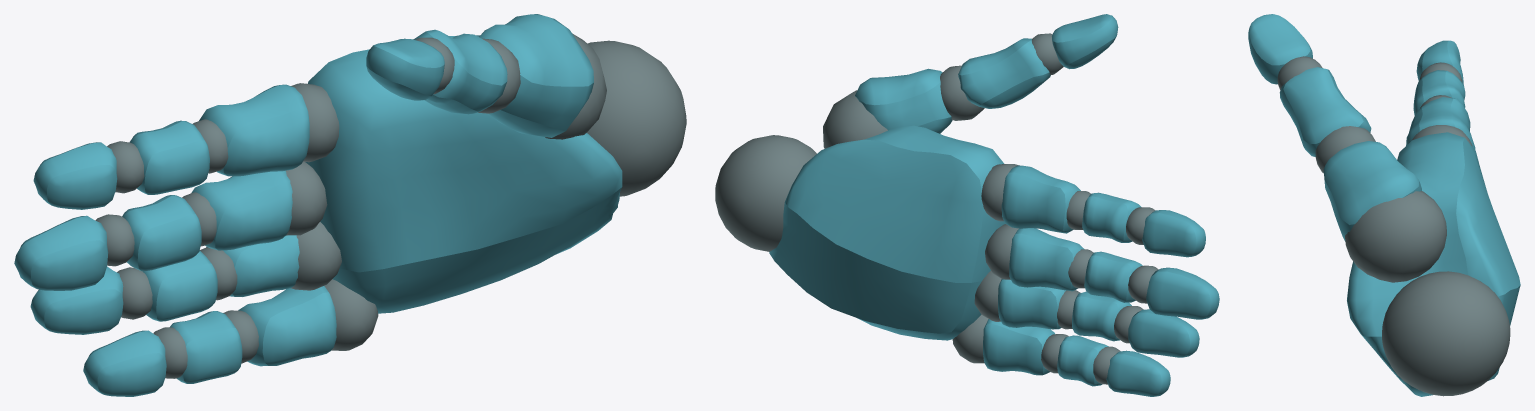
Rendered from Right_Hand.fbx.
3 views of the same model, side by side, from view 1: azimuth 30°, elevation 25°; view 2: azimuth 150°, elevation 25°; view 3: azimuth 270°, elevation 25° (orthographic). The views are drawn at different scales.
Visible parts, largest first — view 1: Right_Hand; view 2: Right_Hand; view 3: Right_Hand.
Part boxes in pixels (left/top/right/bottom): Right_Hand: left=14, top=14, right=686, bottom=396; Right_Hand: left=715, top=14, right=1219, bottom=396; Right_Hand: left=1248, top=14, right=1520, bottom=396.
Bounding box in the file's own units: 2626 × 1505 × 1177.
